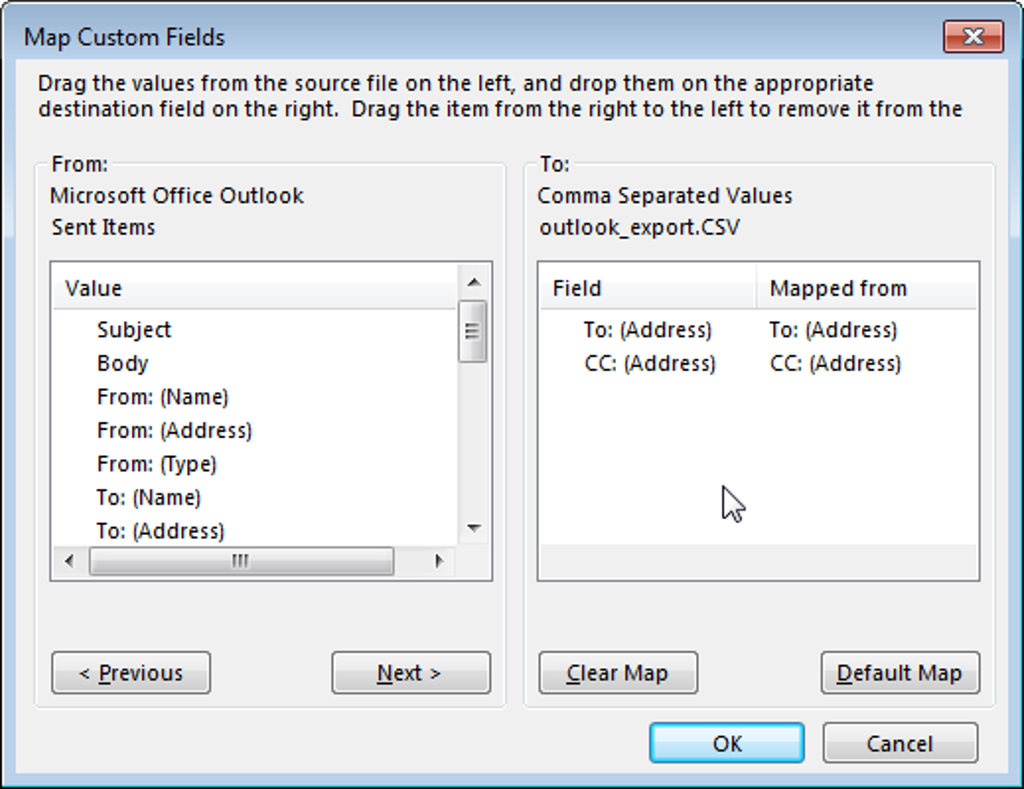button: (90, 546, 395, 575), (821, 650, 980, 695), (332, 650, 492, 694), (539, 650, 698, 694), (52, 651, 211, 694), (823, 721, 979, 764), (650, 722, 805, 764), (943, 19, 1004, 54), (459, 300, 488, 362), (459, 262, 492, 301), (50, 546, 89, 579), (460, 506, 490, 544), (419, 547, 456, 577)
common: (37, 72, 965, 121), (48, 183, 308, 239), (535, 183, 794, 239)
container: (1, 1, 1024, 789), (16, 60, 1008, 772), (34, 148, 508, 708), (524, 149, 996, 709), (537, 262, 980, 581), (51, 262, 492, 582), (49, 544, 457, 580), (458, 261, 492, 546)
header: (22, 23, 228, 50), (50, 150, 110, 174), (539, 152, 572, 175)
image: (721, 482, 748, 526)
table: (50, 262, 459, 545), (538, 262, 980, 380)
table-cell: (51, 262, 457, 307), (51, 307, 458, 348), (50, 444, 458, 481), (51, 481, 459, 517), (51, 411, 458, 444), (51, 348, 459, 380), (50, 381, 458, 411), (50, 517, 460, 545), (757, 261, 978, 309), (537, 262, 756, 309), (757, 310, 979, 347), (538, 310, 757, 346), (757, 346, 979, 380), (538, 346, 757, 379)
table-row: (537, 262, 979, 311), (51, 262, 457, 308), (50, 307, 459, 350), (538, 310, 979, 347), (50, 482, 458, 518), (50, 445, 457, 481), (538, 347, 979, 379), (49, 348, 458, 380), (49, 380, 457, 412), (50, 412, 458, 444), (50, 518, 459, 544)
